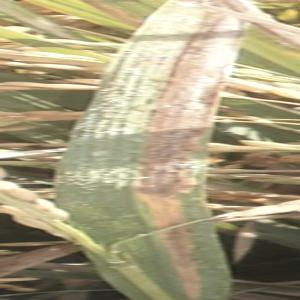2 BacterialBlight: (91, 36, 211, 300)
